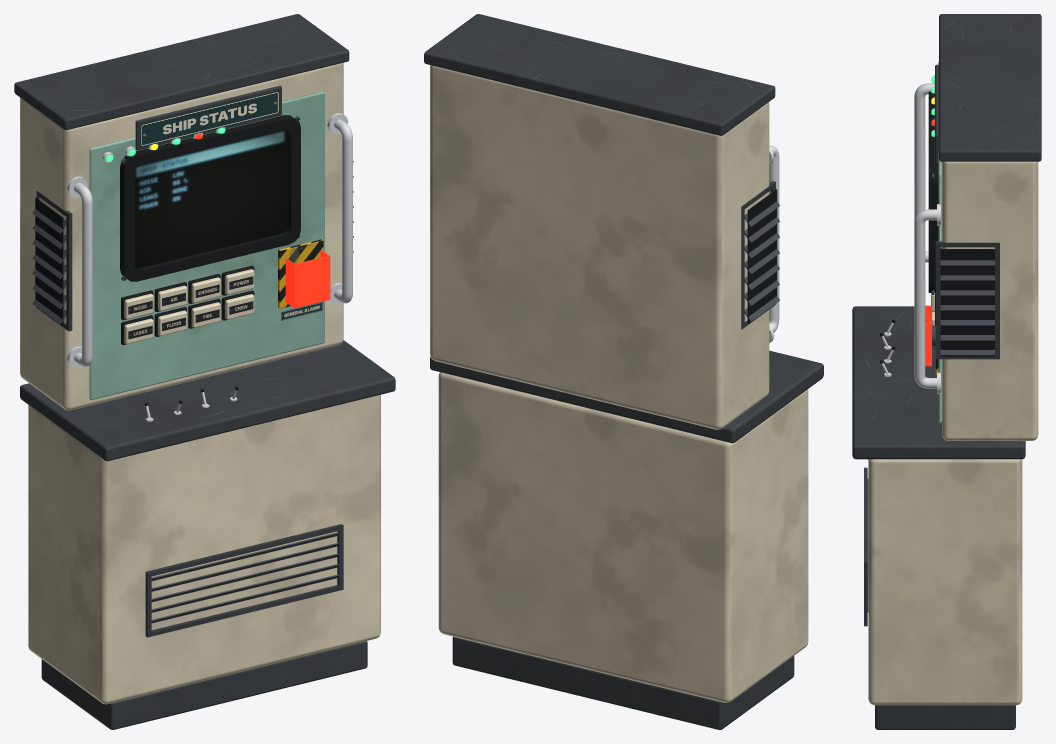
File: ShipStatus.glb
3 renders of one model, left to right at view 1: azimuth 30°, elevation 25°; view 2: azimuth 150°, elevation 25°; view 3: azimuth 270°, elevation 25°, orthographic. The views are drawn at different scales.
Visible parts, largest first — view 1: ShipStatus_Body, ShipStatus_AlarmGuard, ShipStatus_Page7, ShipStatus_Page1, ShipStatus_Page4; view 2: ShipStatus_Body; view 3: ShipStatus_Body, ShipStatus_AlarmGuard.
Boxes of the visible parts, x1,y1,x2,y2 form: ShipStatus_Body: [14, 14, 395, 729]; ShipStatus_AlarmGuard: [285, 250, 330, 308]; ShipStatus_Page7: [191, 302, 220, 327]; ShipStatus_Page1: [124, 293, 153, 319]; ShipStatus_Page4: [225, 269, 254, 294]; ShipStatus_Body: [424, 14, 823, 729]; ShipStatus_Body: [852, 14, 1041, 729]; ShipStatus_AlarmGuard: [925, 305, 931, 366].
Bounding box in the file's own units: 1.05 × 2.02 × 0.59.
Materials: 22 (16 with a texture image).
